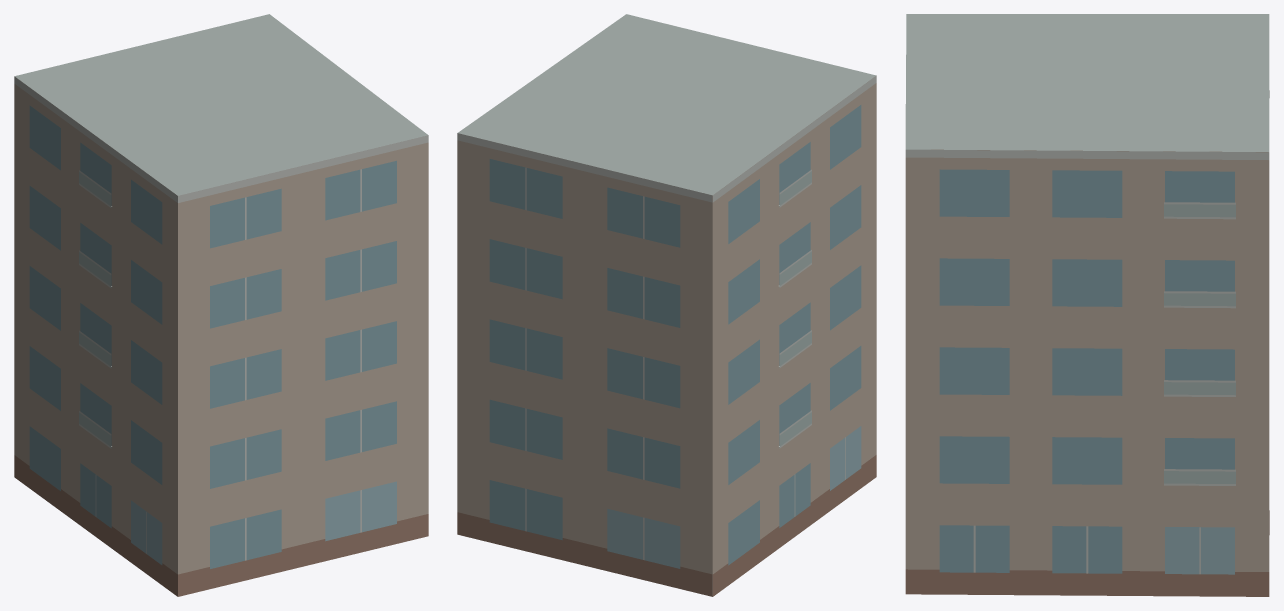
Rendered from survey-upis-32775172.glb.
3 renders of one model, left to right at view 1: azimuth 30°, elevation 25°; view 2: azimuth 150°, elevation 25°; view 3: azimuth 270°, elevation 25°, orthographic. The views are drawn at different scales.
Visible parts, largest first — view 1: survey-upis-32775172.tmp; view 2: survey-upis-32775172.tmp; view 3: survey-upis-32775172.tmp.
Part boxes in pixels (x1,y1,x2,y2): survey-upis-32775172.tmp: [14, 14, 428, 596]; survey-upis-32775172.tmp: [457, 14, 876, 596]; survey-upis-32775172.tmp: [905, 14, 1269, 596].
Size of the model in its own units: 9.05 by 13.5 by 10.02.
